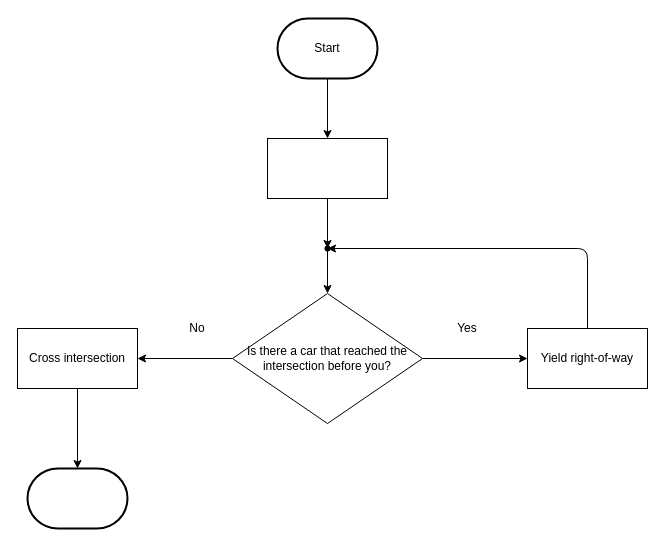
The diagram is 665 pixels wide and 546 high, and some of its shapes have lost their labels. Here are the shapes that lost their labels. From the top down, the centre of each, then its label:
the point at 327,168: Car reaches intersection
the point at 77,498: End
